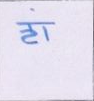anusvara: (30, 8, 35, 11)
